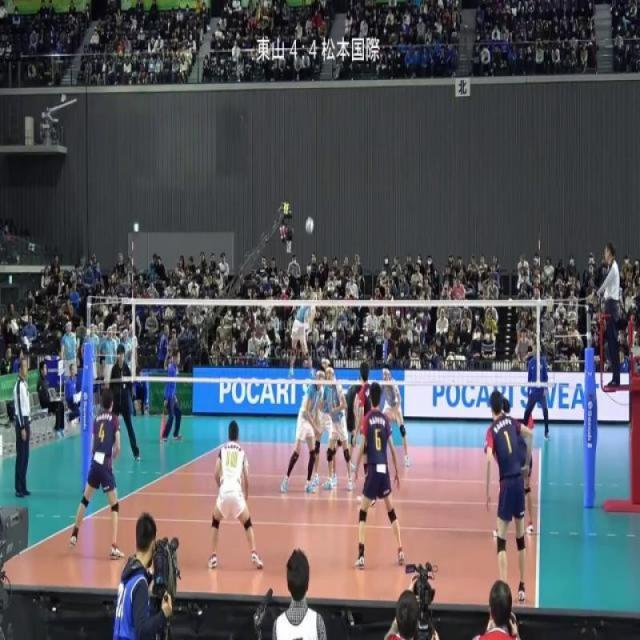volleyball: (304, 216, 315, 235)
